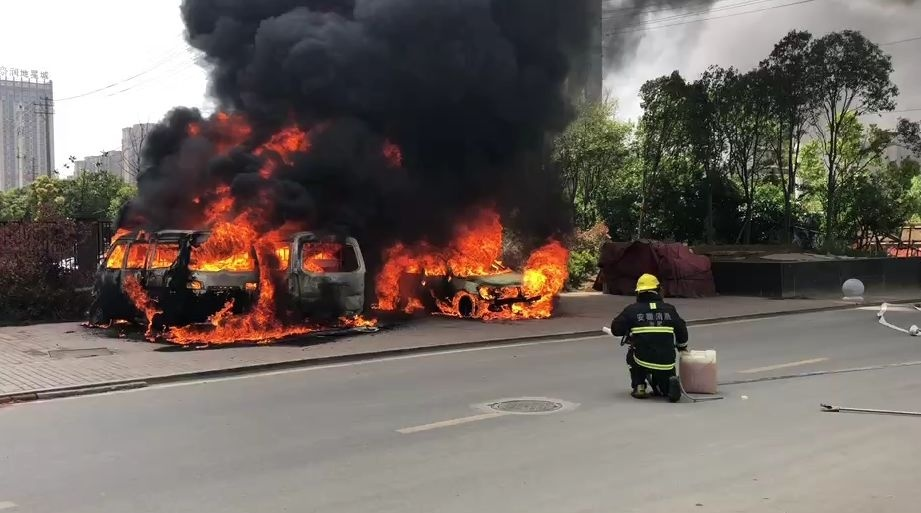fire: (97, 140, 595, 351)
